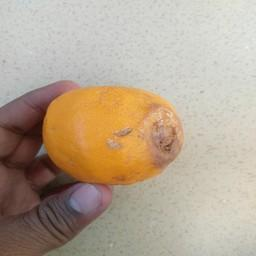Bad_orange: (42, 80, 185, 188)
